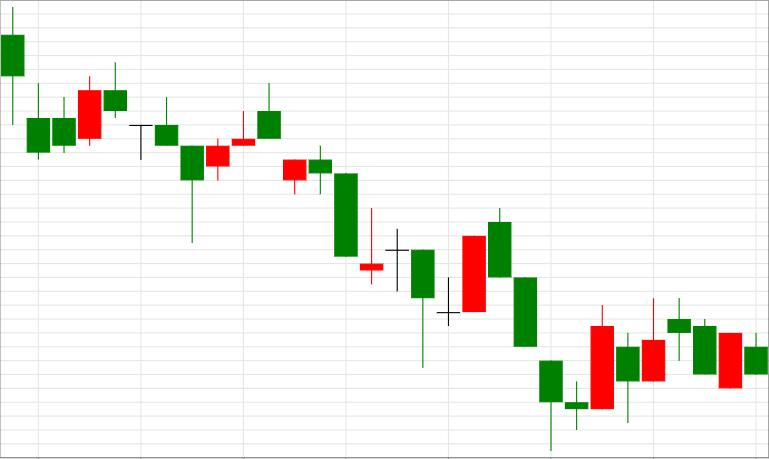hammer_rise: (104, 62, 204, 242)
morning_star_rise: (257, 84, 486, 369)
